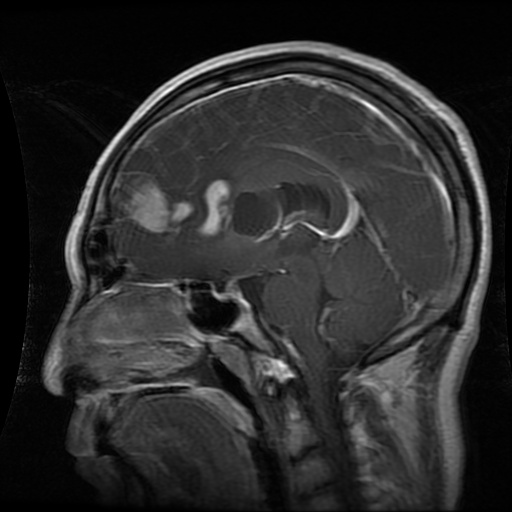glioma: (112, 175, 334, 260)
